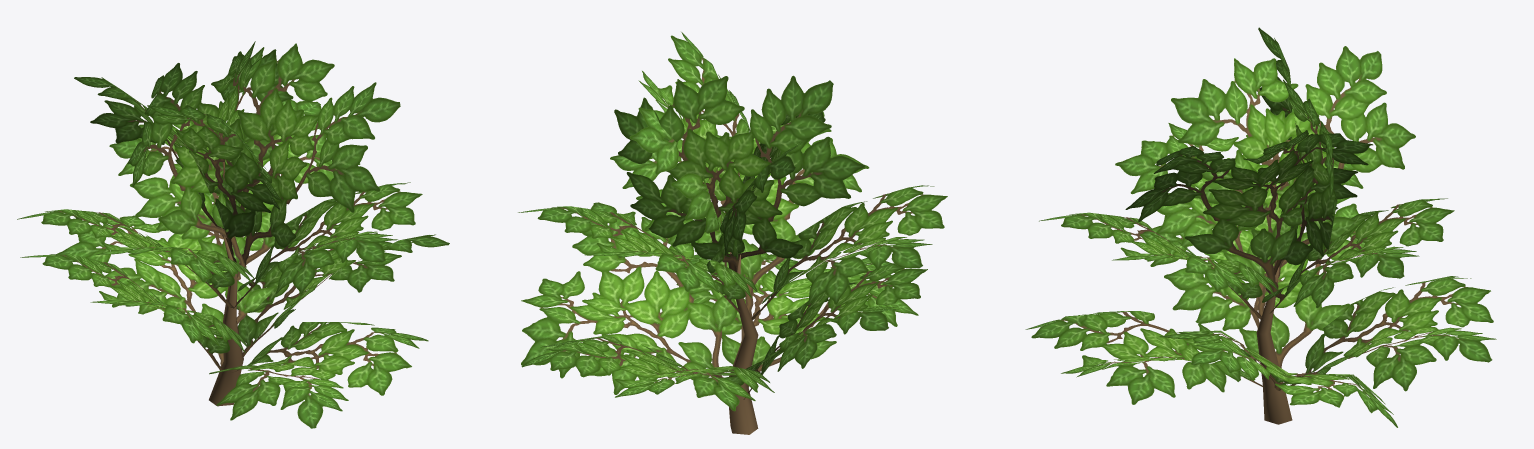
File: Ctn_GroundBush_01_v02.FBX
The picture shows the model from 3 angles, left to right: view 1: azimuth 30°, elevation 25°; view 2: azimuth 150°, elevation 25°; view 3: azimuth 270°, elevation 25°; orthographic projection. The views are drawn at different scales.
Parts seen in each view (by area): view 1: Ctn_GroundBush_01_v02; view 2: Ctn_GroundBush_01_v02; view 3: Ctn_GroundBush_01_v02.
Part boxes in pixels (x1,y1,x2,y2): Ctn_GroundBush_01_v02: [17, 41, 449, 428]; Ctn_GroundBush_01_v02: [518, 32, 947, 434]; Ctn_GroundBush_01_v02: [1025, 27, 1496, 427].
Size of the model in its own units: 85.35 by 73.55 by 90.46.
